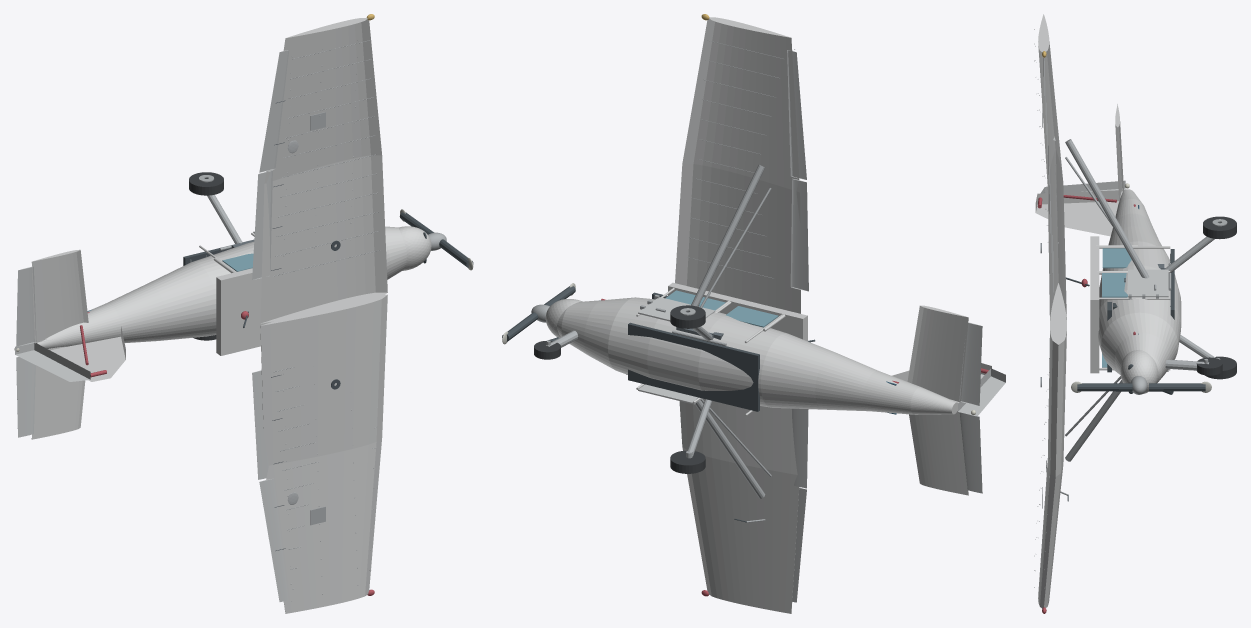
Rendered from FlyGACA_C172_Classic_Analog_Phase2.glb.
3 renders of one model, left to right at view 1: azimuth 30°, elevation 25°; view 2: azimuth 150°, elevation 25°; view 3: azimuth 270°, elevation 25°, orthographic. The views are drawn at different scales.
Visible parts, largest first — view 1: Main high wing • left, Main high wing • right, Fuselage • sculpted aluminium shell, Horizontal stabilizer • right, Cabin roof • removable panel, Horizontal stabilizer • left, Vertical stabilizer, Aileron • right, Aileron • left, Elevator • right, Rudder • hinged, Elevator • left (+4 smaller); view 2: Main high wing • right, Fuselage • sculpted aluminium shell, Main high wing • left, Horizontal stabilizer • right, Horizontal stabilizer • left, Cockpit floor, Flap • right, Cabin roof • removable panel, Elevator • right, Elevator • left, Wing strut • right, Aileron • right (+7 smaller); view 3: Fuselage • sculpted aluminium shell, Main high wing • right, Main high wing • left, Vertical stabilizer, Cabin roof • removable panel, Wing strut • right, Cabin door • right, Engine cowling, Wing strut • left, Main wheel right, Front side window right, Rear side window right (+8 smaller).
Part boxes in pixels (box(x1,y1,x2,y2)): Main high wing • left: box(260, 294, 387, 613); Main high wing • right: box(260, 18, 387, 323); Fuselage • sculpted aluminium shell: box(36, 226, 406, 348); Horizontal stabilizer • right: box(31, 249, 88, 343); Cabin roof • removable panel: box(216, 268, 270, 355); Horizontal stabilizer • left: box(31, 346, 85, 439); Vertical stabilizer: box(40, 326, 125, 381); Aileron • right: box(259, 50, 289, 172); Aileron • left: box(259, 478, 288, 601); Elevator • right: box(16, 266, 36, 346); Rudder • hinged: box(15, 342, 90, 381); Elevator • left: box(16, 357, 35, 437); Main high wing • right: box(675, 17, 800, 313); Fuselage • sculpted aluminium shell: box(557, 297, 958, 414); Main high wing • left: box(679, 398, 799, 613); Horizontal stabilizer • right: box(907, 305, 968, 402); Horizontal stabilizer • left: box(909, 410, 968, 495); Cockpit floor: box(628, 322, 759, 411); Flap • right: box(790, 178, 808, 291); Cabin roof • removable panel: box(668, 282, 807, 341); Elevator • right: box(959, 322, 982, 405); Elevator • left: box(959, 412, 982, 493); Wing strut • right: box(691, 165, 764, 306); Aileron • right: box(787, 50, 806, 179); Fuselage • sculpted aluminium shell: box(1098, 189, 1181, 383); Main high wing • right: box(1038, 14, 1066, 342); Main high wing • left: box(1038, 329, 1066, 608); Vertical stabilizer: box(1035, 190, 1122, 236); Cabin roof • removable panel: box(1090, 236, 1099, 373); Wing strut • right: box(1065, 139, 1149, 278); Cabin door • right: box(1128, 269, 1168, 297); Engine cowling: box(1120, 350, 1158, 393); Wing strut • left: box(1065, 380, 1122, 461); Main wheel right: box(1203, 216, 1236, 239); Front side window right: box(1102, 273, 1127, 297); Rear side window right: box(1102, 248, 1131, 268).
Size of the model in its own units: 8.62 by 10.91 by 3.57.
